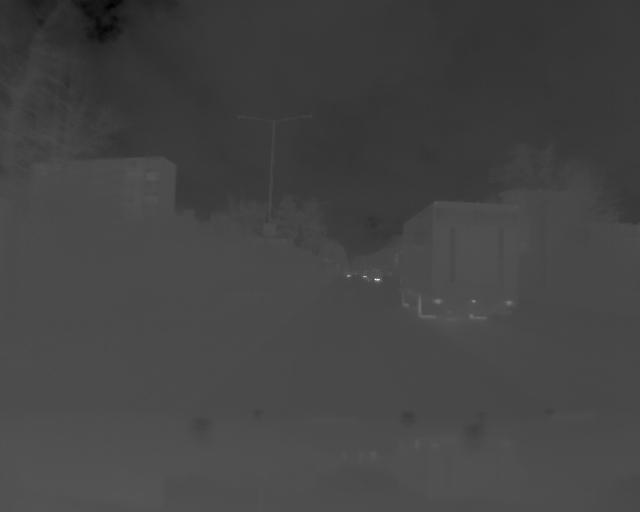car: (396, 199, 537, 325), (363, 265, 387, 285)
